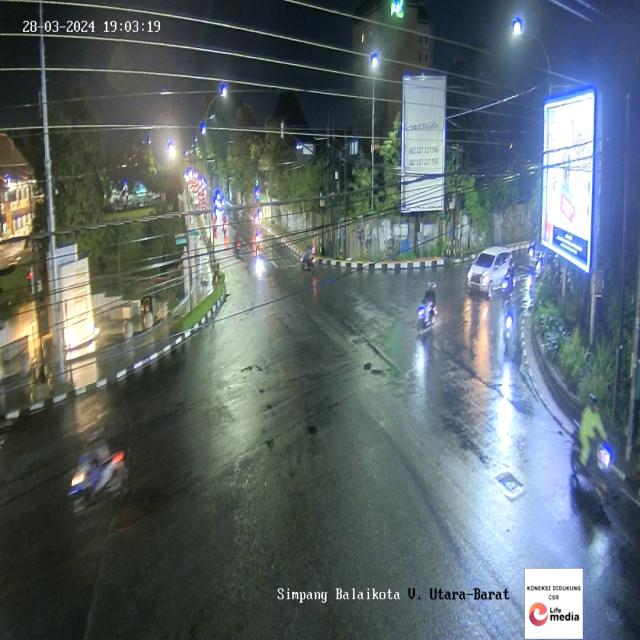car: (571, 391, 609, 501), (467, 245, 517, 295)
motorcycle: (70, 427, 126, 518), (416, 279, 436, 334), (502, 291, 516, 347), (501, 254, 514, 306), (300, 244, 316, 272), (254, 225, 262, 252), (233, 230, 240, 257), (212, 212, 219, 235), (222, 212, 228, 236)
